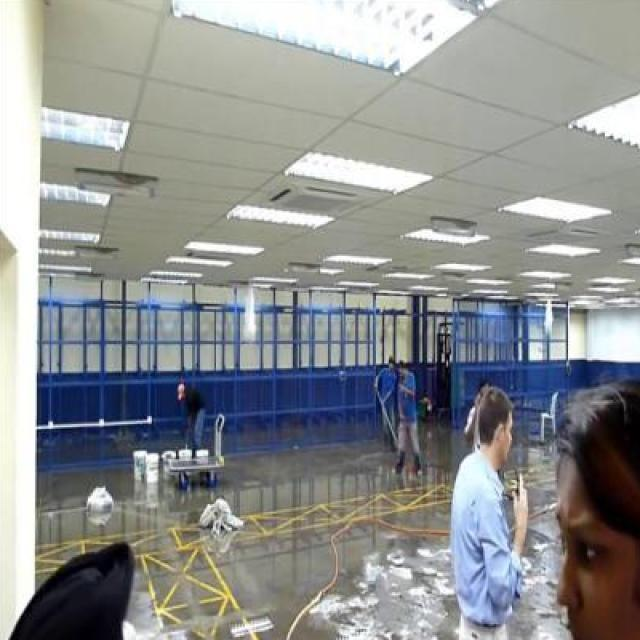fire: (240, 283, 258, 346), (539, 303, 562, 342)
